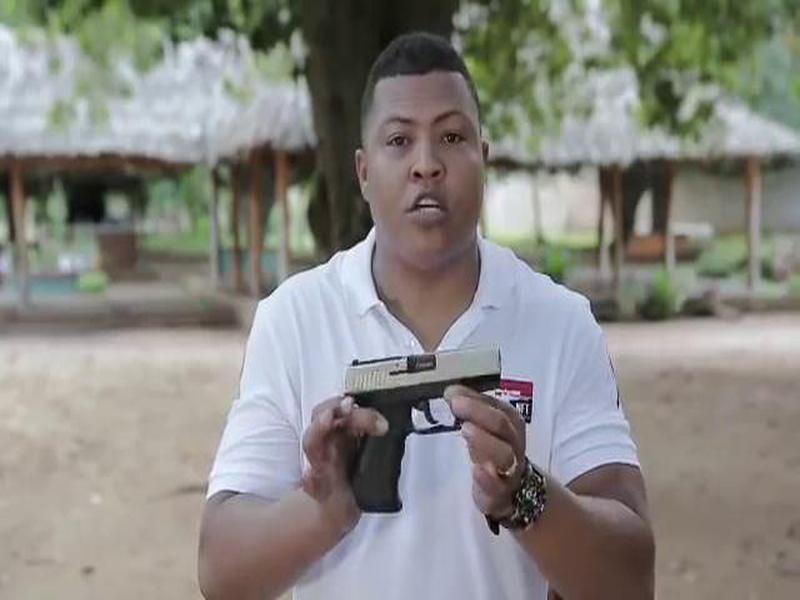Pistola: (326, 333, 534, 520)
